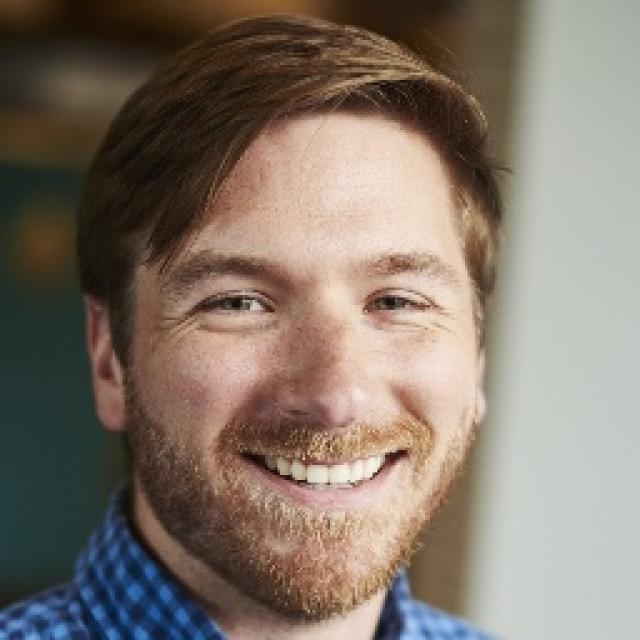earlobe: (83, 290, 131, 434)
